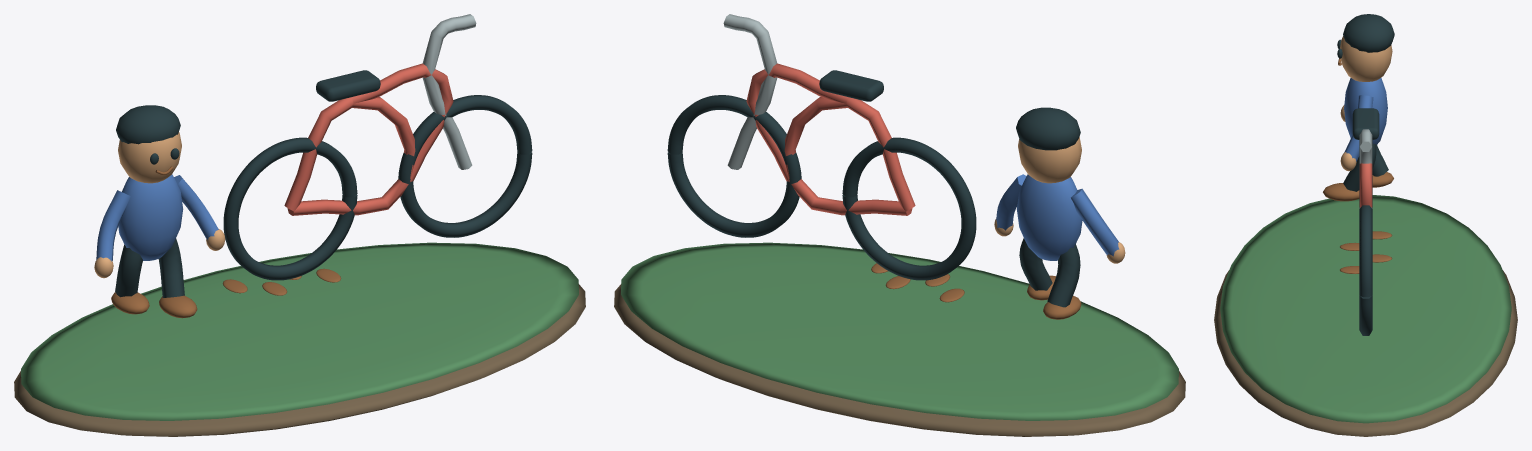
The model's file is self-powered-bicycle.glb.
3 views of the same model, side by side, from view 1: azimuth 30°, elevation 25°; view 2: azimuth 150°, elevation 25°; view 3: azimuth 270°, elevation 25° (orthographic). The views are drawn at different scales.
Visible parts, largest first — view 1: self-powered-bicycle_surface_01, self-powered-bicycle_surface_03, self-powered-bicycle_surface_00, self-powered-bicycle_surface_06, self-powered-bicycle_surface_05, self-powered-bicycle_surface_02, self-powered-bicycle_surface_07, self-powered-bicycle_surface_04; view 2: self-powered-bicycle_surface_01, self-powered-bicycle_surface_03, self-powered-bicycle_surface_00, self-powered-bicycle_surface_06, self-powered-bicycle_surface_05, self-powered-bicycle_surface_07, self-powered-bicycle_surface_02, self-powered-bicycle_surface_04; view 3: self-powered-bicycle_surface_01, self-powered-bicycle_surface_00, self-powered-bicycle_surface_03, self-powered-bicycle_surface_05, self-powered-bicycle_surface_02, self-powered-bicycle_surface_04, self-powered-bicycle_surface_06, self-powered-bicycle_surface_07.
Boxes of the visible parts, bbox=[...] form: self-powered-bicycle_surface_01: bbox=[21, 242, 578, 420]; self-powered-bicycle_surface_03: bbox=[115, 70, 532, 297]; self-powered-bicycle_surface_00: bbox=[14, 284, 585, 436]; self-powered-bicycle_surface_06: bbox=[284, 63, 453, 215]; self-powered-bicycle_surface_05: bbox=[96, 174, 218, 261]; self-powered-bicycle_surface_02: bbox=[94, 132, 225, 278]; self-powered-bicycle_surface_07: bbox=[422, 14, 476, 169]; self-powered-bicycle_surface_04: bbox=[111, 166, 341, 318]; self-powered-bicycle_surface_01: bbox=[621, 242, 1178, 420]; self-powered-bicycle_surface_03: bbox=[667, 70, 1080, 307]; self-powered-bicycle_surface_00: bbox=[614, 284, 1185, 436]; self-powered-bicycle_surface_06: bbox=[746, 63, 915, 215]; self-powered-bicycle_surface_05: bbox=[996, 174, 1119, 260]; self-powered-bicycle_surface_07: bbox=[723, 14, 777, 169]; self-powered-bicycle_surface_02: bbox=[994, 137, 1125, 263]; self-powered-bicycle_surface_04: bbox=[871, 263, 1081, 319]; self-powered-bicycle_surface_01: bbox=[1220, 195, 1511, 423]; self-powered-bicycle_surface_00: bbox=[1214, 270, 1517, 436]; self-powered-bicycle_surface_03: bbox=[1337, 14, 1394, 335]; self-powered-bicycle_surface_05: bbox=[1343, 78, 1387, 161]; self-powered-bicycle_surface_02: bbox=[1340, 36, 1392, 171]; self-powered-bicycle_surface_04: bbox=[1323, 58, 1393, 273]; self-powered-bicycle_surface_06: bbox=[1359, 163, 1372, 207]; self-powered-bicycle_surface_07: bbox=[1359, 129, 1372, 208].
Size of the model in its own units: 4.56 by 2.42 by 2.5.
